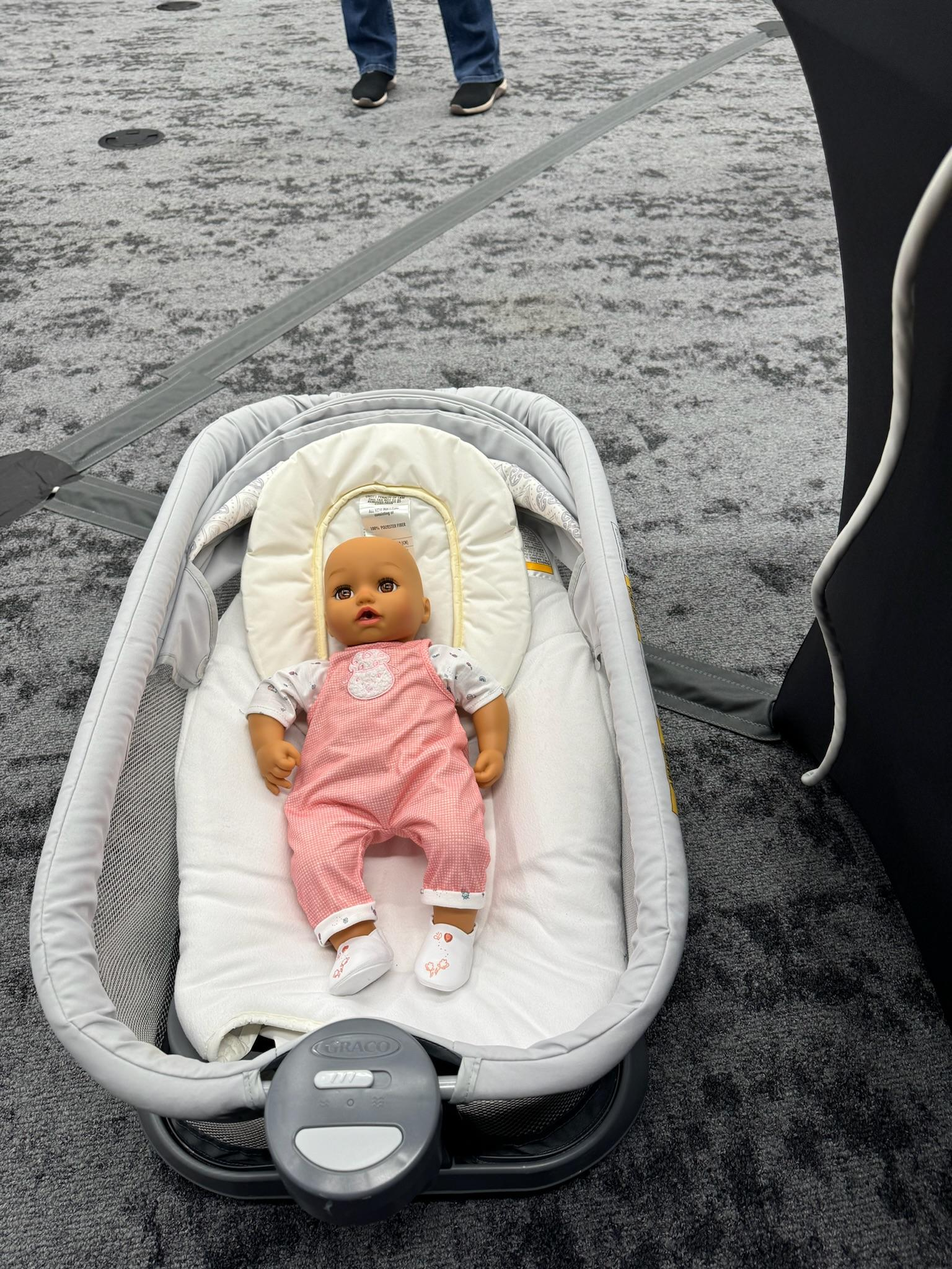baby: (248, 533, 531, 1000)
